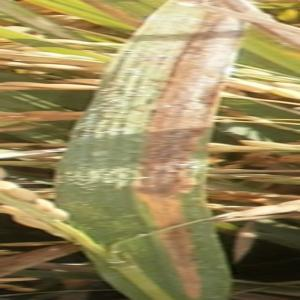Bacterial_Blight: (91, 36, 211, 300)
